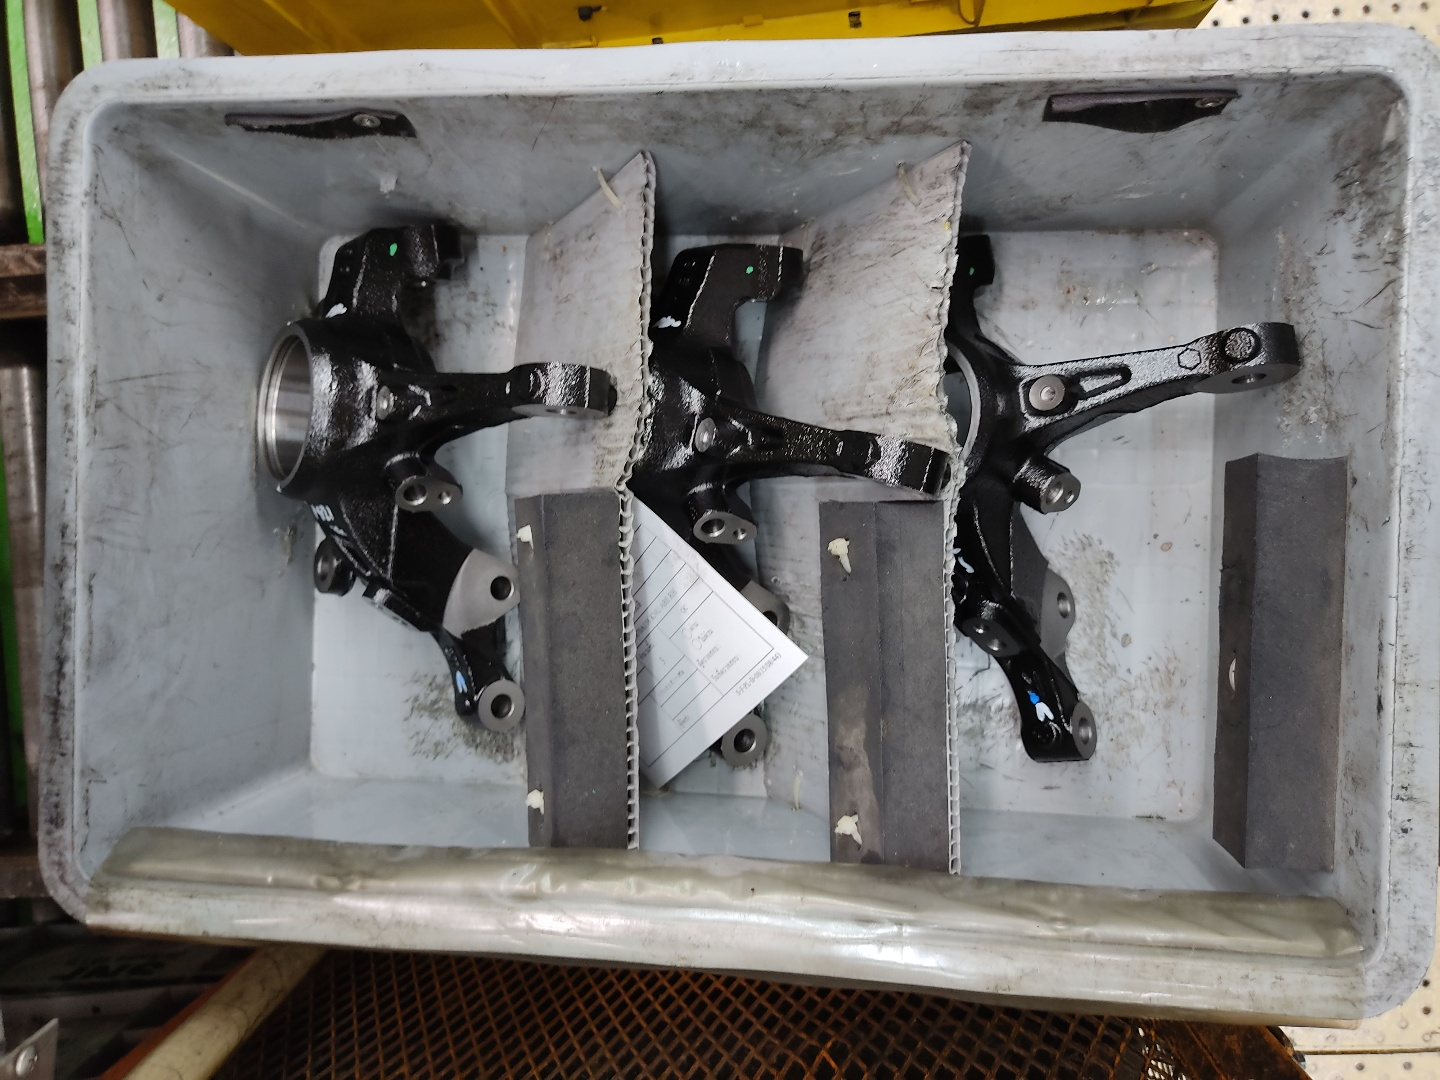abs-rh: (947, 225, 1314, 775), (247, 211, 622, 745), (628, 236, 954, 784)
